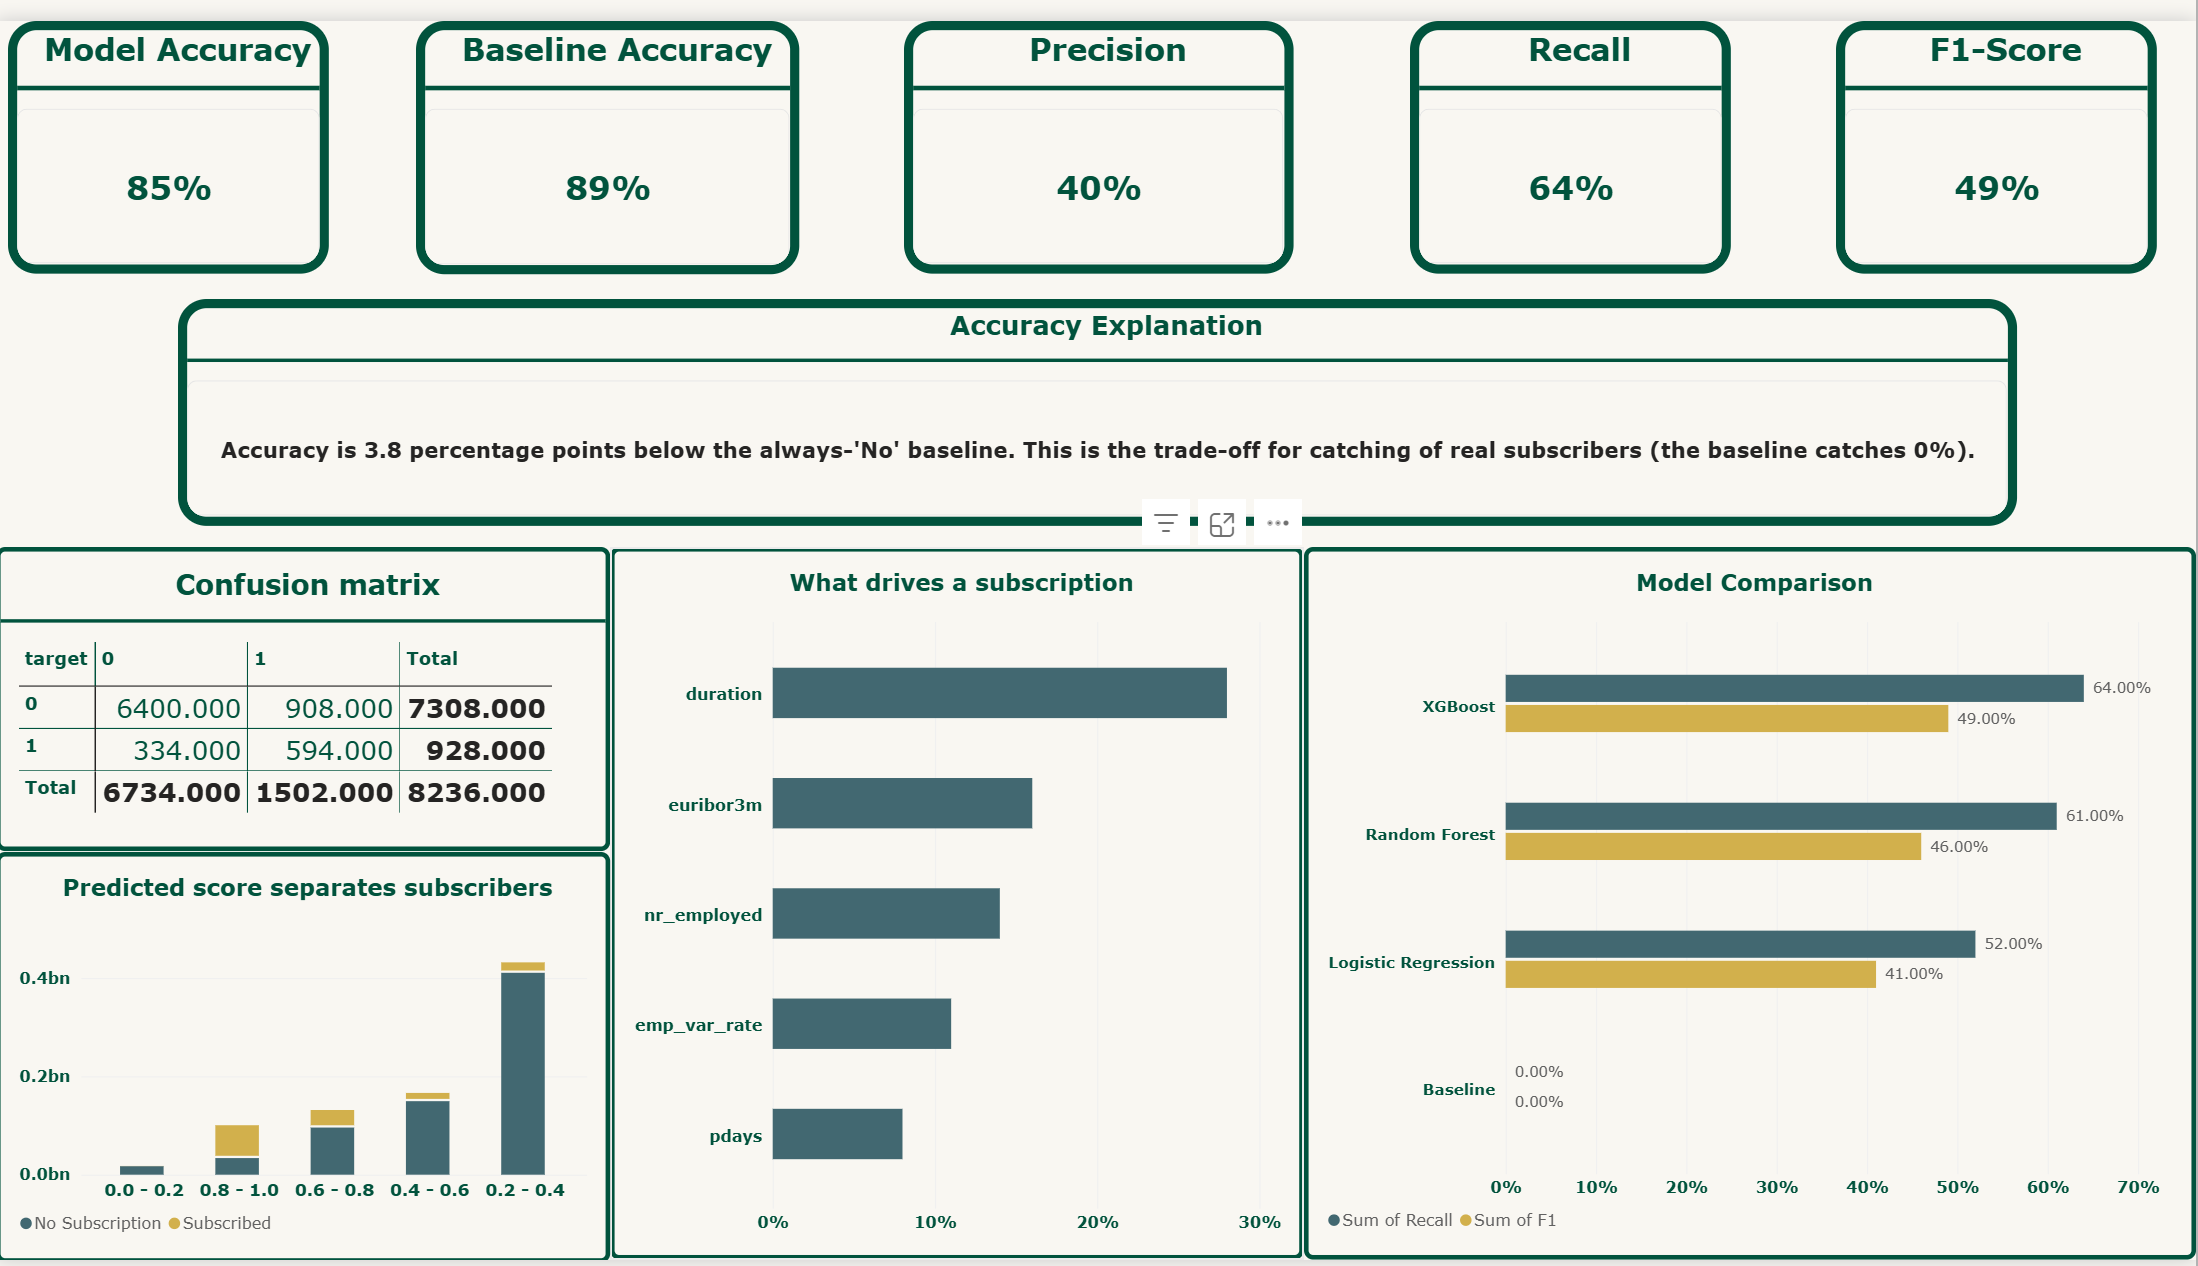

The dashboard page shown, as its layout file describes it:
{"tool":"powerbi","page":{"name":"Model Performance","canvas":[1920,1080],"ordinal":5},"visuals":[{"type":"cardVisual","title":"Model Accuracy","fields":{"Data":["bank.Model Accuracy"]},"box":[10.3,0,280.2,220.4],"z":0},{"type":"cardVisual","title":"Baseline Accuracy","fields":{"Data":["bank.Baseline Accuracy"]},"box":[367.4,0,334.6,220.9],"z":1000},{"type":"cardVisual","title":"Precision ","fields":{"Data":["Segment 2.Model Precisions"]},"box":[791.6,0,339.9,220.4],"z":2000},{"type":"cardVisual","title":"Recall ","fields":{"Data":["Segment 2.Model Recalol"]},"box":[1233.3,0,280.2,220.4],"z":3000},{"type":"cardVisual","title":"F1-Score","fields":{"Data":["Segment 2.Modeol F1"]},"box":[1605.1,0,280.2,220.4],"z":4000},{"type":"cardVisual","title":"Accuracy Explanation","fields":{"Data":["Test Rows.Accuracy Explanation"]},"box":[159.6,242.7,1604.8,197.8],"z":5000},{"type":"pivotTable","title":"Confusion matrix","fields":{"Columns":["bank.predicted_subscribe"],"Rows":["bank.target"],"Values":["bank.Total Contacts"]},"box":[0,459.2,535.8,264.6],"z":6000},{"type":"clusteredBarChart","title":"Model Comparison","fields":{"Category":["Metrics.Model"],"Y":["Sum(Metrics.Recall)","Sum(Metrics.F1)"]},"box":[1141.5,459.2,778.5,621],"z":7000},{"type":"clusteredBarChart","title":"What drives a subscription","fields":{"Category":["Importance.Feature"],"Y":["Sum(Importance.Importance)"]},"box":[535.8,459.2,605.7,621],"z":8000},{"type":"columnChart","title":"Predicted score separates subscribers","fields":{"Category":["bank.ScoreBand"],"Series":["bank.target_label"],"Y":["Sum(bank.client_id)"]},"box":[0,723.8,535.8,358.6],"z":9000}]}

Visuals, with their boxes in screenshot pixels (x1, y1, x2, y2), scaled from the page's 1920x1080 canvas onto the 2198x1266 screenshot:
"Model Accuracy" cardVisual: <bbox>12, 0, 333, 258</bbox>
"Baseline Accuracy" cardVisual: <bbox>421, 0, 804, 259</bbox>
"Precision " cardVisual: <bbox>906, 0, 1295, 258</bbox>
"Recall " cardVisual: <bbox>1412, 0, 1733, 258</bbox>
"F1-Score" cardVisual: <bbox>1838, 0, 2158, 258</bbox>
"Accuracy Explanation" cardVisual: <bbox>183, 284, 2020, 516</bbox>
"Confusion matrix" pivotTable: <bbox>0, 538, 613, 848</bbox>
"Model Comparison" clusteredBarChart: <bbox>1307, 538, 2197, 1265</bbox>
"What drives a subscription" clusteredBarChart: <bbox>613, 538, 1307, 1265</bbox>
"Predicted score separates subscribers" columnChart: <bbox>0, 848, 613, 1265</bbox>
